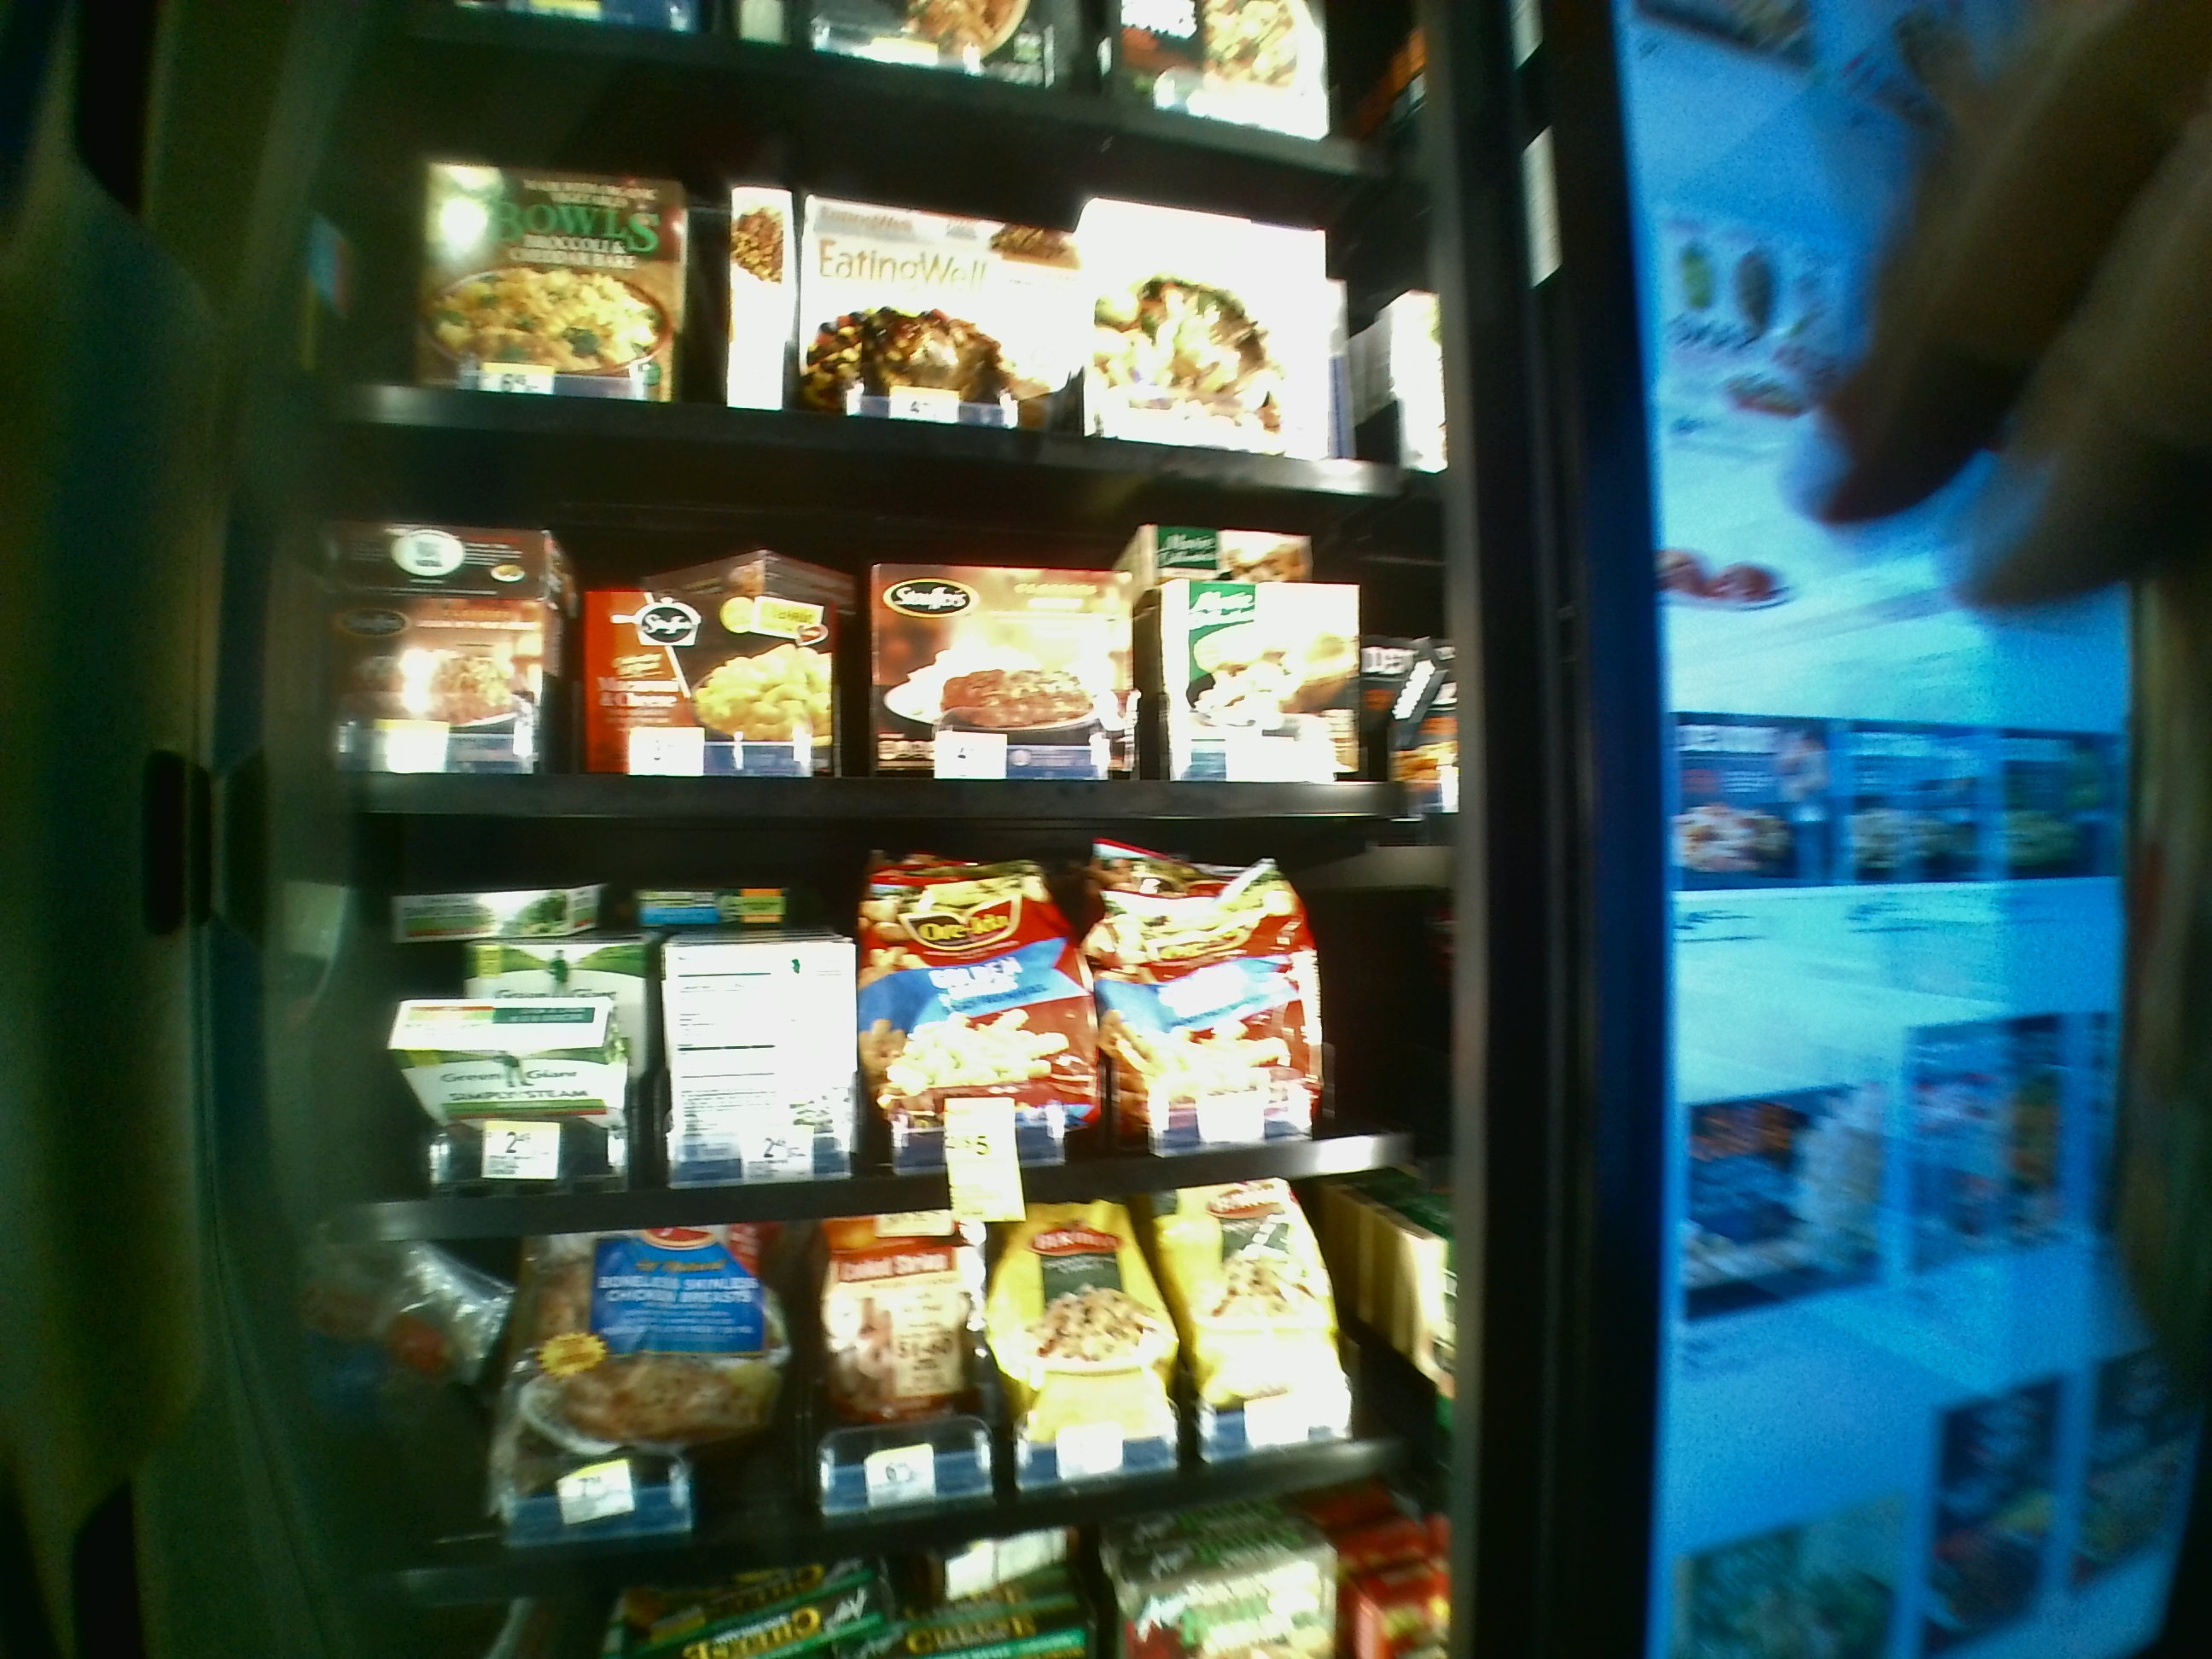shelf: (291, 828, 1447, 1258), (298, 422, 1439, 819)
